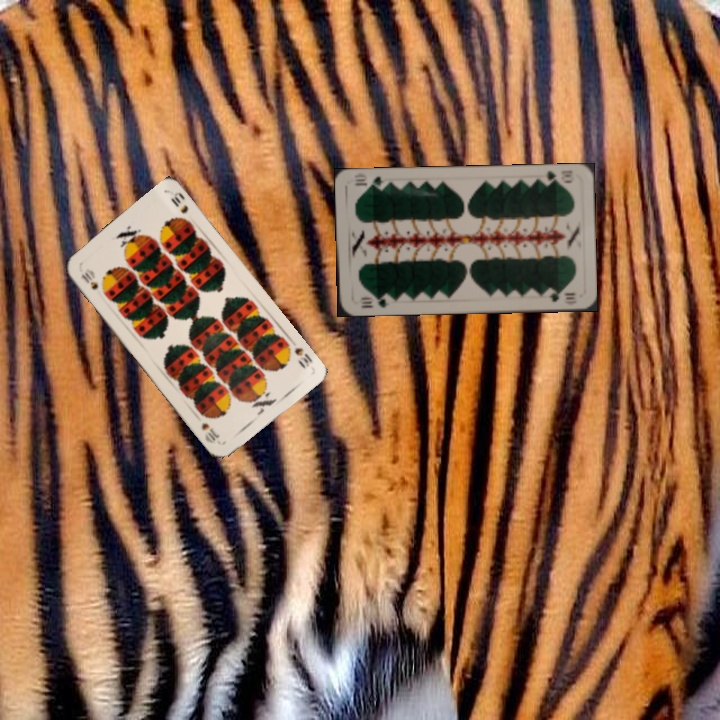G10: (538, 166, 576, 187), (357, 291, 392, 310)
S10: (290, 343, 315, 371), (77, 268, 101, 293)
